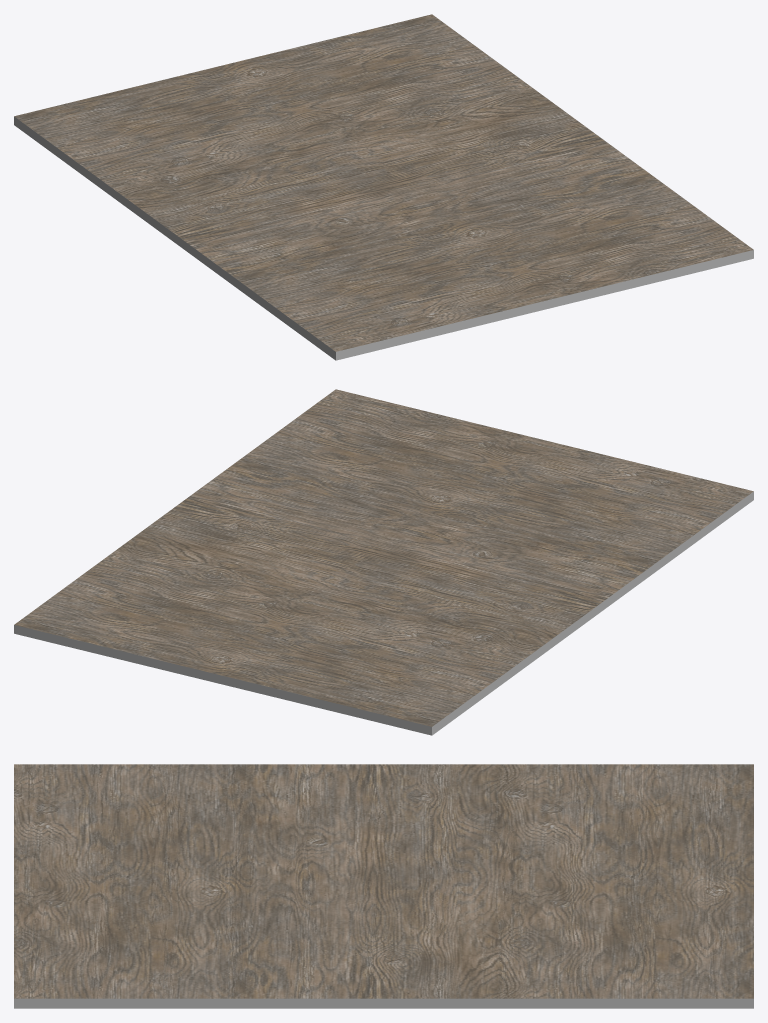
Rendered from jov_roofwood_6t.fbx.
The picture shows the model from 3 angles, top to bottom: view 1: azimuth 30°, elevation 25°; view 2: azimuth 150°, elevation 25°; view 3: azimuth 270°, elevation 25°; orthographic projection. The views are drawn at different scales.
Visible parts, largest first — view 1: jov_roofwood_6t; view 2: jov_roofwood_6t; view 3: jov_roofwood_6t.
Boxes of the visible parts, x1,y1,x2,y2 form: jov_roofwood_6t: (14, 14, 753, 360); jov_roofwood_6t: (14, 389, 753, 735); jov_roofwood_6t: (14, 764, 753, 1008).
Bounding box in the file's own units: 330 × 6.63 × 440.
